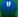blue: (0, 0, 18, 17)
